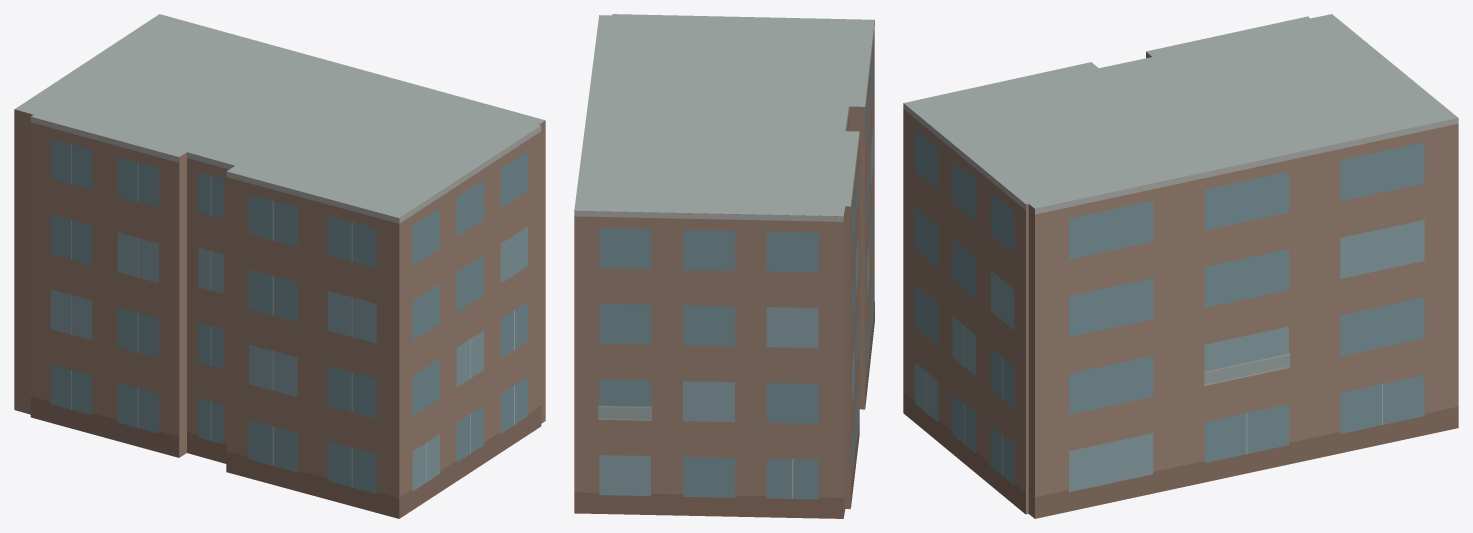
The model's file is survey-upis-32909635.glb.
3 renders of one model, left to right at view 1: azimuth 30°, elevation 25°; view 2: azimuth 150°, elevation 25°; view 3: azimuth 270°, elevation 25°, orthographic. The views are drawn at different scales.
Parts seen in each view (by area): view 1: survey-upis-32909635.tmp; view 2: survey-upis-32909635.tmp; view 3: survey-upis-32909635.tmp.
Boxes of the visible parts, x1,y1,x2,y2 form: survey-upis-32909635.tmp: (14,14,545,518); survey-upis-32909635.tmp: (574,14,874,518); survey-upis-32909635.tmp: (903,14,1458,518).
Bounding box in the file's own units: 17.52 × 13 × 21.09.
